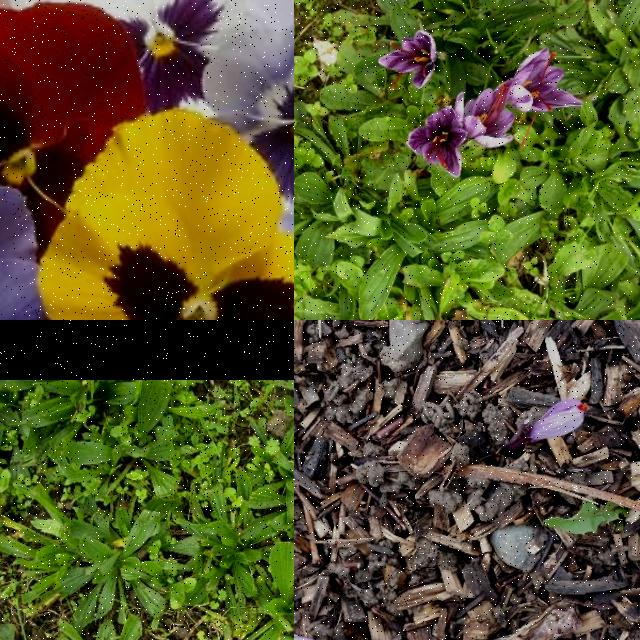flower: (508, 46, 582, 146), (406, 107, 468, 179), (454, 78, 514, 148), (378, 30, 439, 90), (526, 398, 588, 444)
